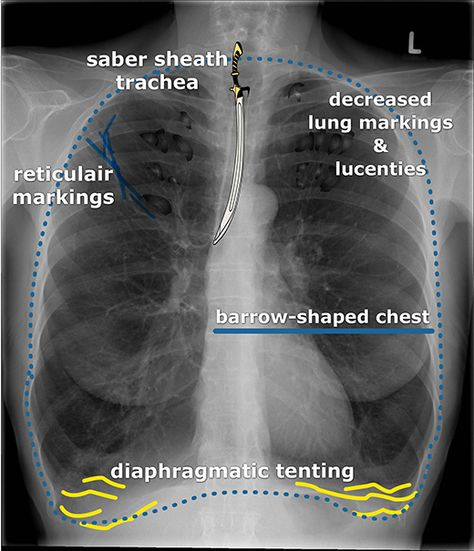telestration: (306, 90, 454, 180), (83, 114, 155, 218), (214, 307, 436, 336), (84, 49, 229, 93), (53, 475, 160, 528), (109, 460, 353, 482), (293, 478, 421, 518), (10, 166, 116, 205)
